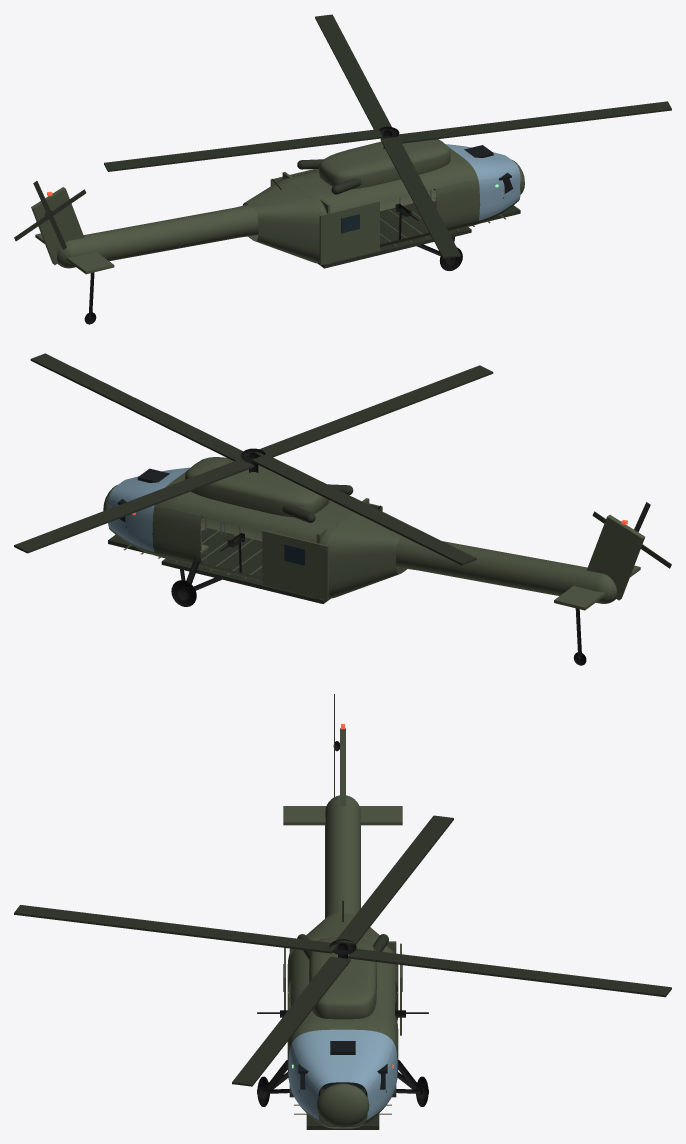
Rendered from object_helicopter.glb.
3 views of the same model, one above another, from view 1: azimuth 30°, elevation 25°; view 2: azimuth 150°, elevation 25°; view 3: azimuth 270°, elevation 25° (orthographic). The views are drawn at different scales.
Parts seen in each view (by area): view 1: Map, Ceiling; view 2: Map, Ceiling; view 3: Ceiling, Map.
Boxes of the visible parts, x1,y1,x2,y2 form: Map: [14, 160, 524, 324]; Ceiling: [104, 14, 671, 258]; Map: [103, 485, 671, 665]; Ceiling: [14, 353, 493, 565]; Ceiling: [14, 815, 671, 1092]; Map: [257, 694, 428, 1129].
Size of the model in its own units: 19.76 by 4.93 by 15.43.
